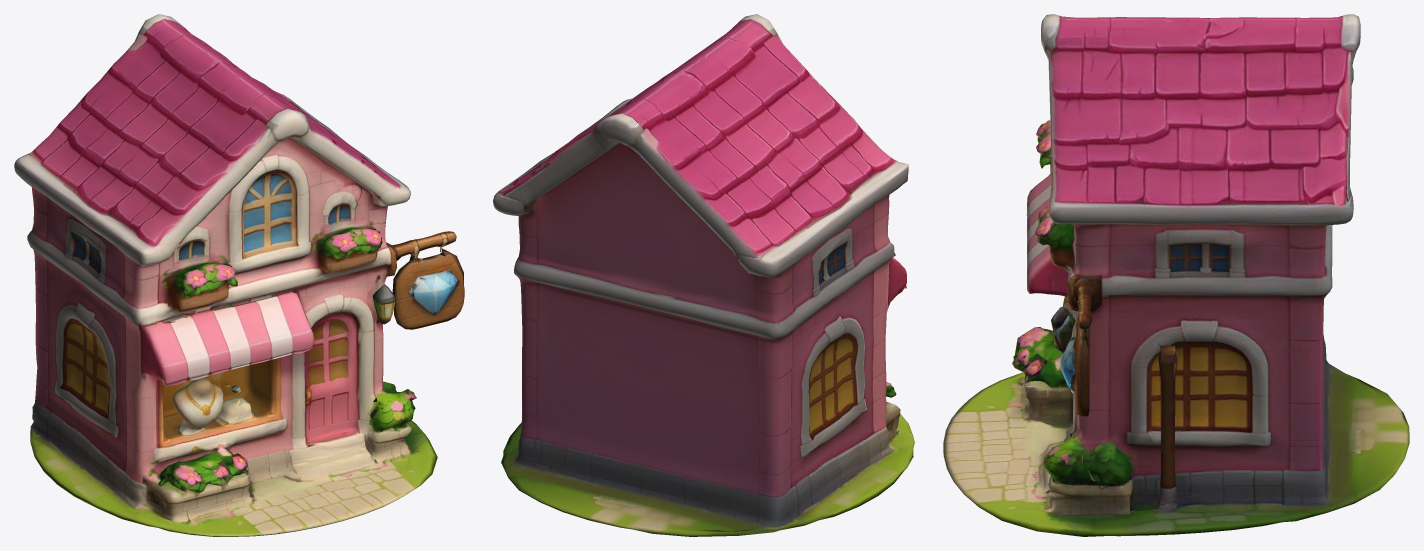
The model's file is 03-jewelry.glb.
3 renders of one model, left to right at view 1: azimuth 30°, elevation 25°; view 2: azimuth 150°, elevation 25°; view 3: azimuth 270°, elevation 25°, orthographic. The views are drawn at different scales.
Visible parts, largest first — view 1: tripo_node_374d50ba-0cf3-48eb-94a3-a495561e5872; view 2: tripo_node_374d50ba-0cf3-48eb-94a3-a495561e5872; view 3: tripo_node_374d50ba-0cf3-48eb-94a3-a495561e5872.
Boxes of the visible parts, x1,y1,x2,y2 form: tripo_node_374d50ba-0cf3-48eb-94a3-a495561e5872: [14, 14, 464, 536]; tripo_node_374d50ba-0cf3-48eb-94a3-a495561e5872: [493, 14, 914, 536]; tripo_node_374d50ba-0cf3-48eb-94a3-a495561e5872: [943, 14, 1409, 536].
Bounding box in the file's own units: 0.9718 × 0.9697 × 0.9365.
Materials: 1 (1 with a texture image).
